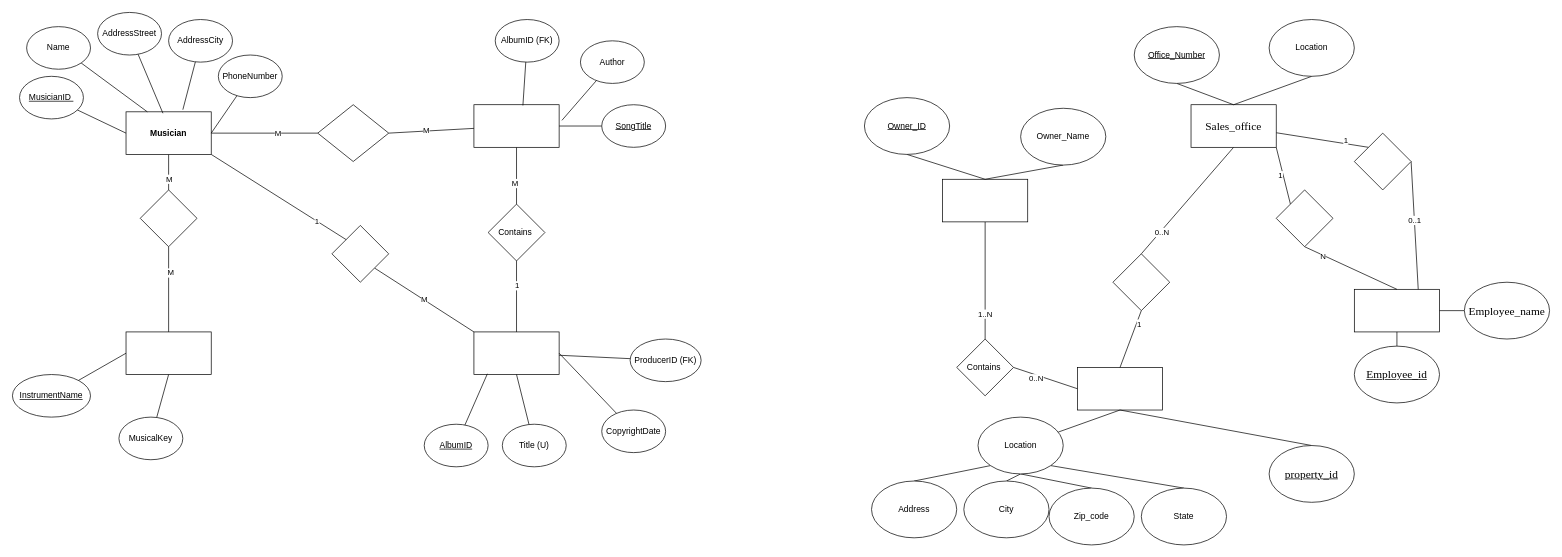
Image size: 1562x557. Some labels were removed from this diagram. Here are the shapes that lost their labels. From the top down, the centre of each, then its label:
At point (353, 133): "PerformedBy".
At point (516, 125): "Song".
At point (1382, 161): "manages".
At point (168, 218): "Plays".
At point (985, 200): "Owner".
At point (1304, 218): "Works_for".
At point (360, 253): "Produces".
At point (1141, 282): "Lists".
At point (1397, 310): "Employee".
At point (168, 353): "Instrument".
At point (516, 353): "Album".
At point (1120, 388): "property".
